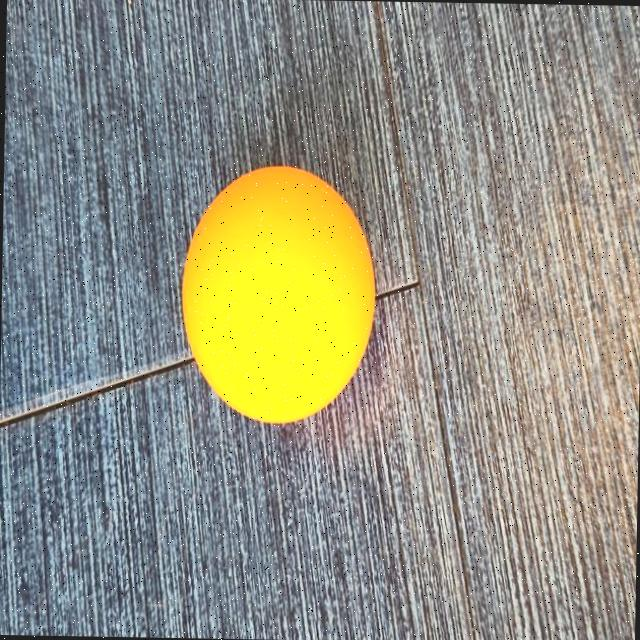ping-pong-ball: (170, 156, 394, 460)
